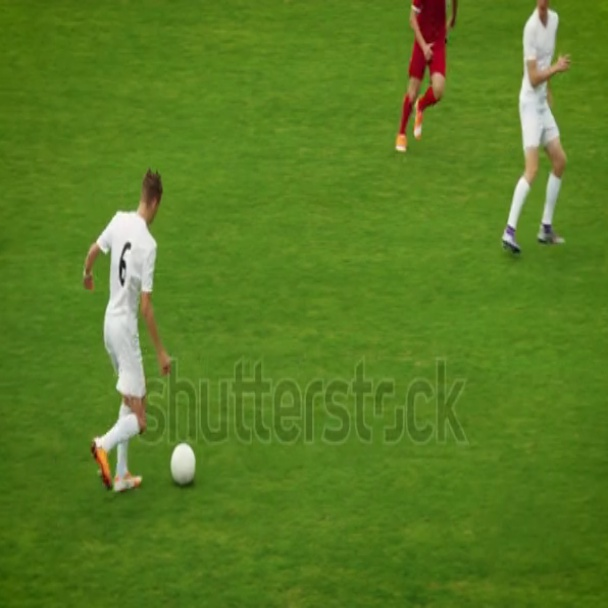ball: (167, 439, 198, 487)
